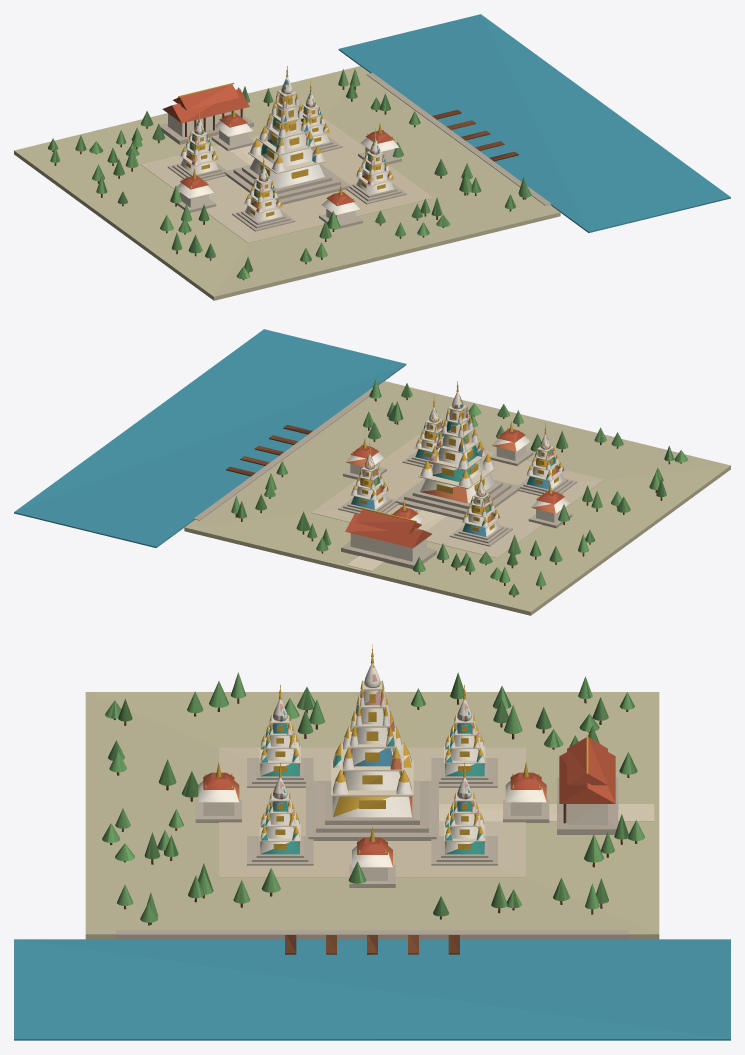
Rendered from wat-arun-stylized.glb.
3 views of the same model, one above another, from view 1: azimuth 30°, elevation 25°; view 2: azimuth 150°, elevation 25°; view 3: azimuth 270°, elevation 25° (orthographic). The views are drawn at different scales.
Visible parts, largest first — view 1: WAT-ARUN.GROUND_LOD0, WAT-ARUN.RIVER_LOD0, WAT-ARUN.PRANG.MAIN_LOD0, WAT-ARUN.UBOSOT_LOD0, WAT-ARUN.PRANG.SAT-02_LOD0, WAT-ARUN.PRANG.SAT-01_LOD0, WAT-ARUN.PRANG.SAT-03_LOD0, WAT-ARUN.MANDAPA.03_LOD0, WAT-ARUN.PRANG.SAT-04_LOD0, WAT-ARUN.MANDAPA.04_LOD0, WAT-ARUN.MANDAPA.01_LOD0, WAT-ARUN.MANDAPA.02_LOD0; view 2: WAT-ARUN.GROUND_LOD0, WAT-ARUN.RIVER_LOD0, WAT-ARUN.PRANG.MAIN_LOD0, WAT-ARUN.UBOSOT_LOD0, WAT-ARUN.PRANG.SAT-03_LOD0, WAT-ARUN.PRANG.SAT-02_LOD0, WAT-ARUN.PRANG.SAT-04_LOD0, WAT-ARUN.MANDAPA.01_LOD0, WAT-ARUN.PRANG.SAT-01_LOD0, WAT-ARUN.MANDAPA.04_LOD0, WAT-ARUN.MANDAPA.02_LOD0; view 3: WAT-ARUN.GROUND_LOD0, WAT-ARUN.RIVER_LOD0, WAT-ARUN.PRANG.MAIN_LOD0, WAT-ARUN.UBOSOT_LOD0, WAT-ARUN.PRANG.SAT-01_LOD0, WAT-ARUN.PRANG.SAT-04_LOD0, WAT-ARUN.PRANG.SAT-02_LOD0, WAT-ARUN.PRANG.SAT-03_LOD0, WAT-ARUN.MANDAPA.01_LOD0, WAT-ARUN.MANDAPA.03_LOD0, WAT-ARUN.MANDAPA.02_LOD0.
Part boxes in pixels (left/top/right/bottom): WAT-ARUN.GROUND_LOD0: left=14, top=66, right=560, bottom=300; WAT-ARUN.RIVER_LOD0: left=338, top=14, right=730, bottom=232; WAT-ARUN.PRANG.MAIN_LOD0: left=224, top=66, right=350, bottom=204; WAT-ARUN.UBOSOT_LOD0: left=160, top=82, right=253, bottom=144; WAT-ARUN.PRANG.SAT-02_LOD0: left=232, top=156, right=295, bottom=231; WAT-ARUN.PRANG.SAT-01_LOD0: left=346, top=128, right=406, bottom=204; WAT-ARUN.PRANG.SAT-03_LOD0: left=167, top=108, right=226, bottom=181; WAT-ARUN.MANDAPA.03_LOD0: left=211, top=107, right=254, bottom=150; WAT-ARUN.PRANG.SAT-04_LOD0: left=300, top=80, right=342, bottom=152; WAT-ARUN.MANDAPA.04_LOD0: left=177, top=168, right=216, bottom=212; WAT-ARUN.MANDAPA.01_LOD0: left=319, top=185, right=362, bottom=229; WAT-ARUN.MANDAPA.02_LOD0: left=358, top=123, right=401, bottom=165; WAT-ARUN.GROUND_LOD0: left=184, top=379, right=730, bottom=615; WAT-ARUN.RIVER_LOD0: left=14, top=329, right=406, bottom=547; WAT-ARUN.PRANG.MAIN_LOD0: left=394, top=381, right=520, bottom=519; WAT-ARUN.UBOSOT_LOD0: left=341, top=507, right=436, bottom=568; WAT-ARUN.PRANG.SAT-03_LOD0: left=449, top=471, right=512, bottom=546; WAT-ARUN.PRANG.SAT-02_LOD0: left=518, top=423, right=577, bottom=496; WAT-ARUN.PRANG.SAT-04_LOD0: left=338, top=443, right=398, bottom=514; WAT-ARUN.MANDAPA.01_LOD0: left=490, top=422, right=533, bottom=465; WAT-ARUN.PRANG.SAT-01_LOD0: left=402, top=395, right=444, bottom=467; WAT-ARUN.MANDAPA.04_LOD0: left=528, top=483, right=572, bottom=528; WAT-ARUN.MANDAPA.02_LOD0: left=343, top=438, right=386, bottom=480; WAT-ARUN.GROUND_LOD0: left=85, top=672, right=659, bottom=939; WAT-ARUN.RIVER_LOD0: left=14, top=930, right=730, bottom=1040; WAT-ARUN.PRANG.MAIN_LOD0: left=306, top=644, right=438, bottom=840; WAT-ARUN.UBOSOT_LOD0: left=557, top=734, right=618, bottom=834; WAT-ARUN.PRANG.SAT-01_LOD0: left=247, top=763, right=313, bottom=865; WAT-ARUN.PRANG.SAT-04_LOD0: left=431, top=763, right=497, bottom=865; WAT-ARUN.PRANG.SAT-02_LOD0: left=247, top=685, right=313, bottom=787; WAT-ARUN.PRANG.SAT-03_LOD0: left=431, top=685, right=497, bottom=787; WAT-ARUN.MANDAPA.01_LOD0: left=195, top=761, right=241, bottom=822; WAT-ARUN.MANDAPA.03_LOD0: left=503, top=761, right=549, bottom=822; WAT-ARUN.MANDAPA.02_LOD0: left=349, top=826, right=395, bottom=887.
Size of what is drawn, in the model's own units: 159 by 37.8 by 140.
